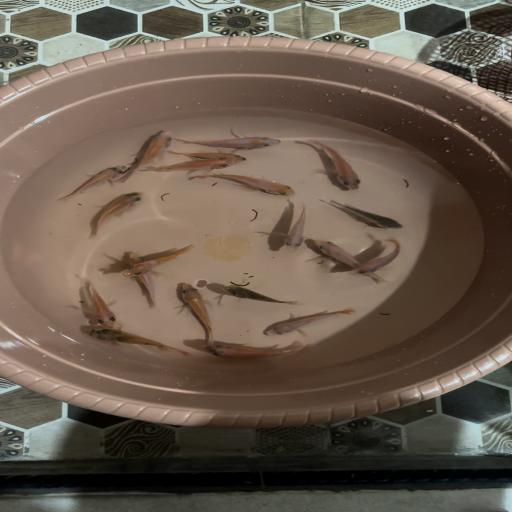nila: (307, 236, 390, 287), (301, 138, 374, 192), (81, 327, 196, 359), (170, 281, 224, 346), (116, 130, 176, 186), (260, 306, 355, 338), (120, 243, 198, 281), (116, 249, 166, 308), (53, 163, 129, 201), (188, 172, 301, 197), (200, 340, 313, 365), (86, 191, 144, 239), (326, 199, 409, 231), (70, 276, 119, 330), (344, 236, 404, 278), (272, 200, 312, 253), (176, 132, 287, 150), (216, 285, 302, 307), (145, 157, 234, 177), (167, 148, 252, 162)
